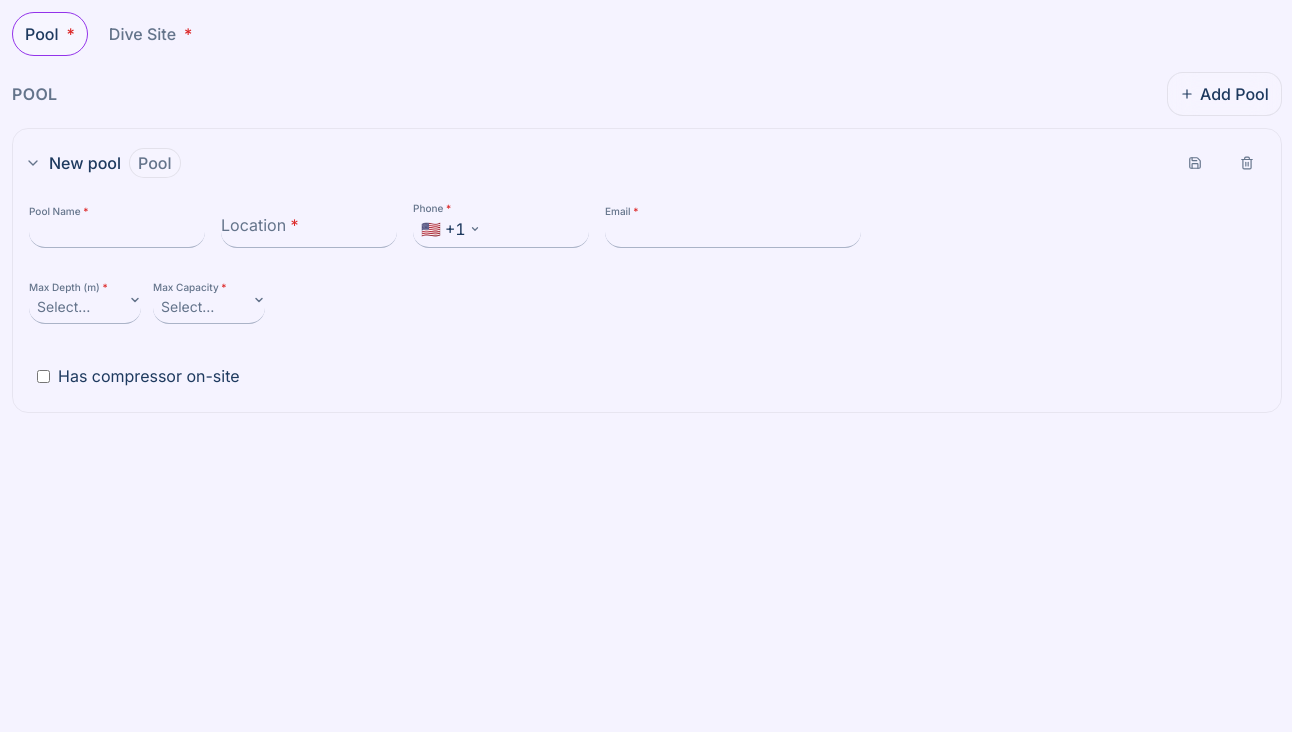
Test case: VenueCapabilitiesSection — Dive Site sub-tab is selectable › clicking the Dive Site sub-tab switches activeTab and pre-seeds a dive_site draft
The width and height of the screenshot is (1292, 732).
Step 1. Click the tab "Dive Site *" → [151, 34], box [96,12,205,56]
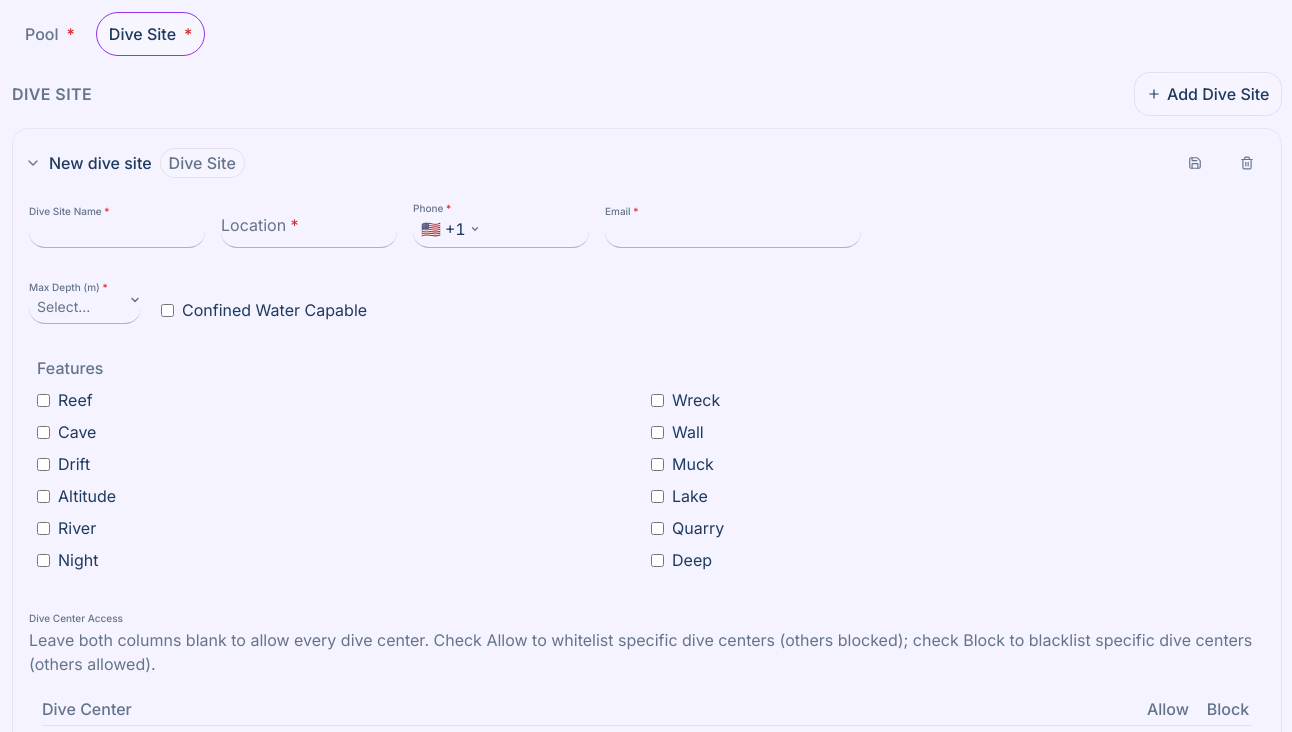
Check: the field labelled "Dive Site Name *" is shown, box [29,204,205,248]
Check: the label labelled "Pool Name" is gone
Check: the label labelled "Max Capacity" is gone
